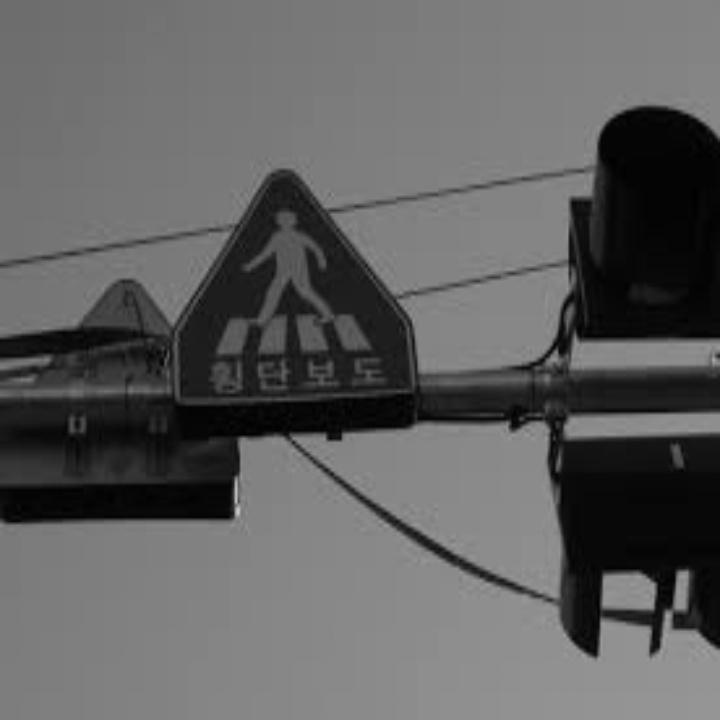cross: (201, 203, 398, 354)
